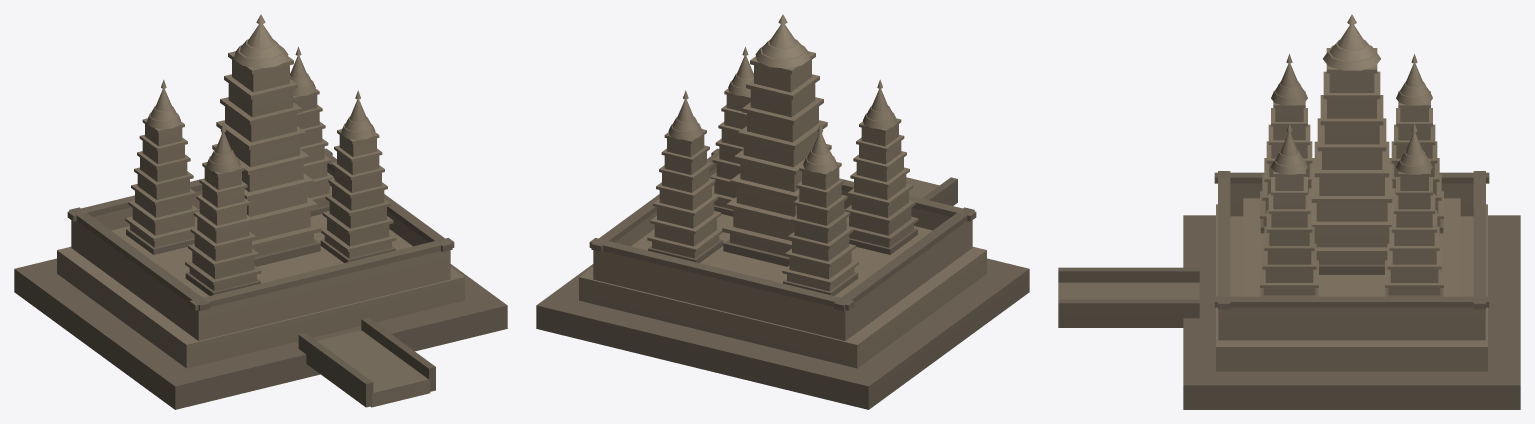
File: angkor-wat.glb
The picture shows the model from 3 angles, left to right: view 1: azimuth 30°, elevation 25°; view 2: azimuth 150°, elevation 25°; view 3: azimuth 270°, elevation 25°; orthographic projection. The views are drawn at different scales.
Bounding box in the file's own units: 4.44 × 3.79 × 5.1.
